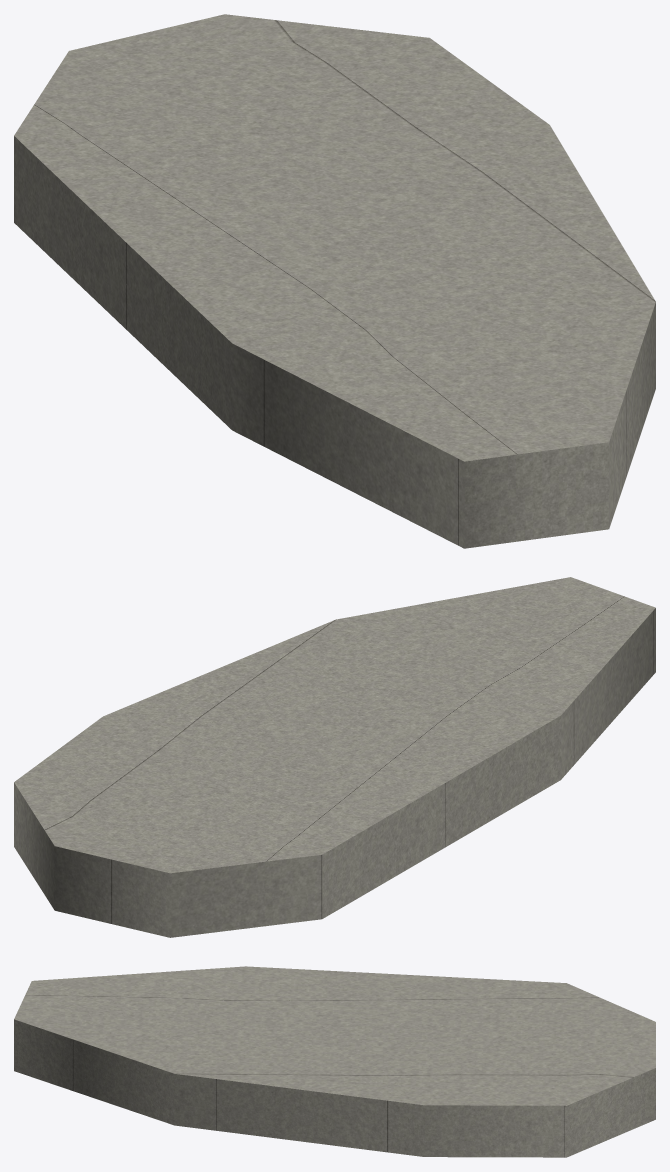
The model's file is curb_12.glb.
3 renders of one model, top to bottom at view 1: azimuth 30°, elevation 25°; view 2: azimuth 150°, elevation 25°; view 3: azimuth 270°, elevation 25°, orthographic. The views are drawn at different scales.
Parts seen in each view (by area): view 1: curb_12.surface, curb_12.sides; view 2: curb_12.surface, curb_12.sides; view 3: curb_12.surface, curb_12.sides.
Part boxes in pixels (<box>): curb_12.surface: <box>14,14,655,461</box>; curb_12.sides: <box>14,136,655,548</box>; curb_12.surface: <box>14,577,655,873</box>; curb_12.sides: <box>14,608,655,937</box>; curb_12.surface: <box>14,966,655,1105</box>; curb_12.sides: <box>14,1019,655,1157</box>.
Size of the model in its own units: 0.8994 by 0.1734 by 1.8.
1 material, 1 textured.
